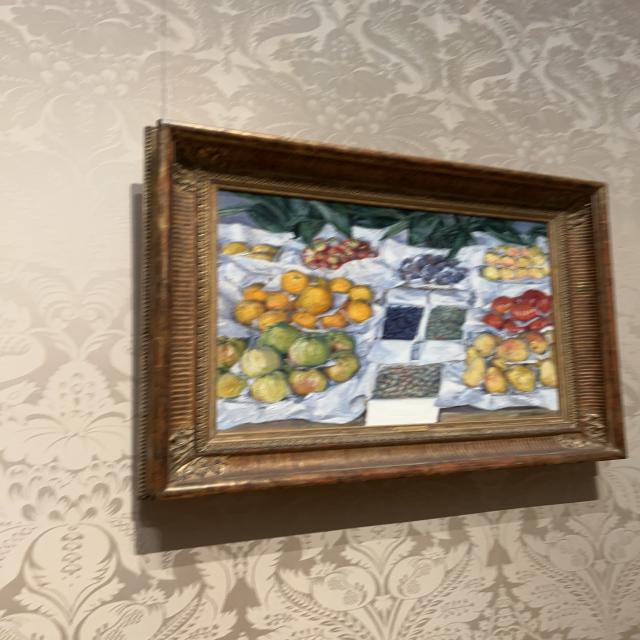fruits: (220, 189, 554, 425)
